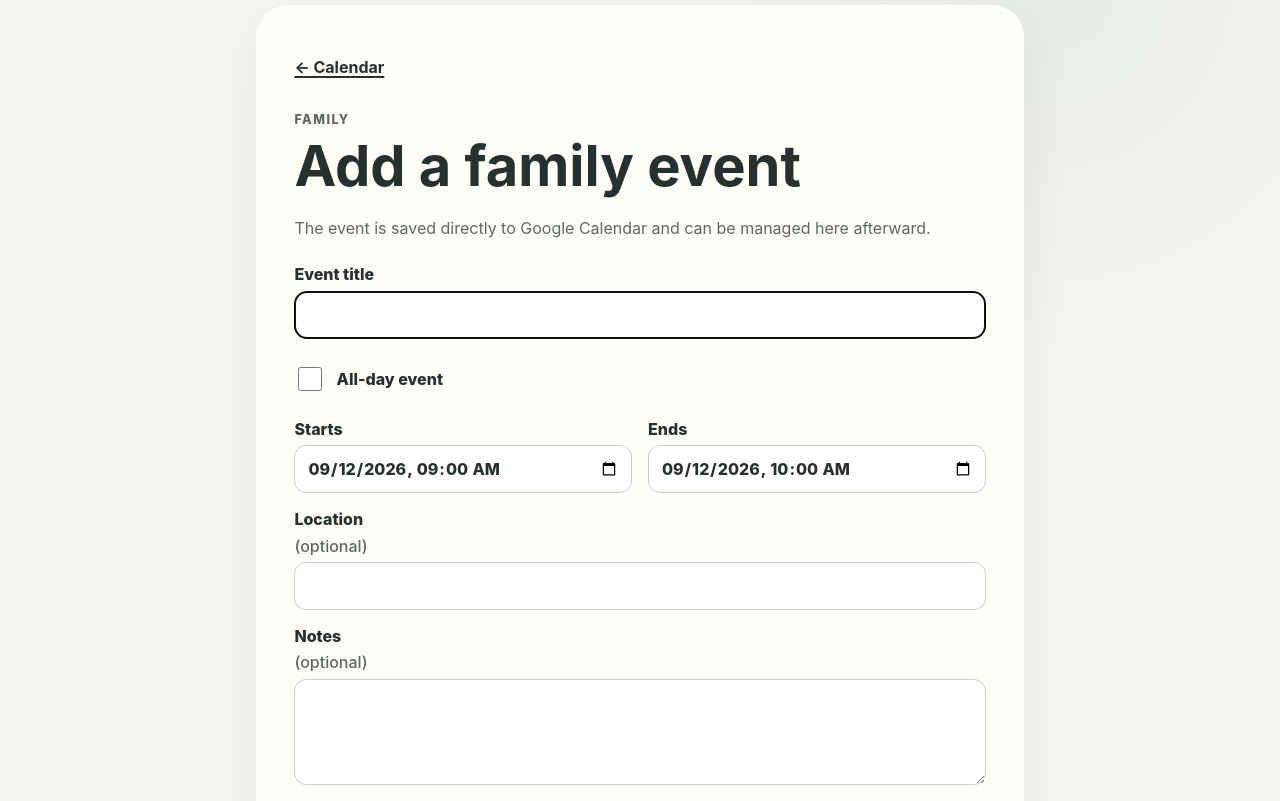
Test: calendar integration › creates an event with credentials, antiforgery, and an idempotency key
The width and height of the screenshot is (1280, 801).
Expected: the field labelled "Starts" holds "2026-09-12T09:00", [294,445,632,493]
Type "Dentist appointment" into the field labelled "Event title" at (640, 315), box [294,291,986,339]
(page scrolled)
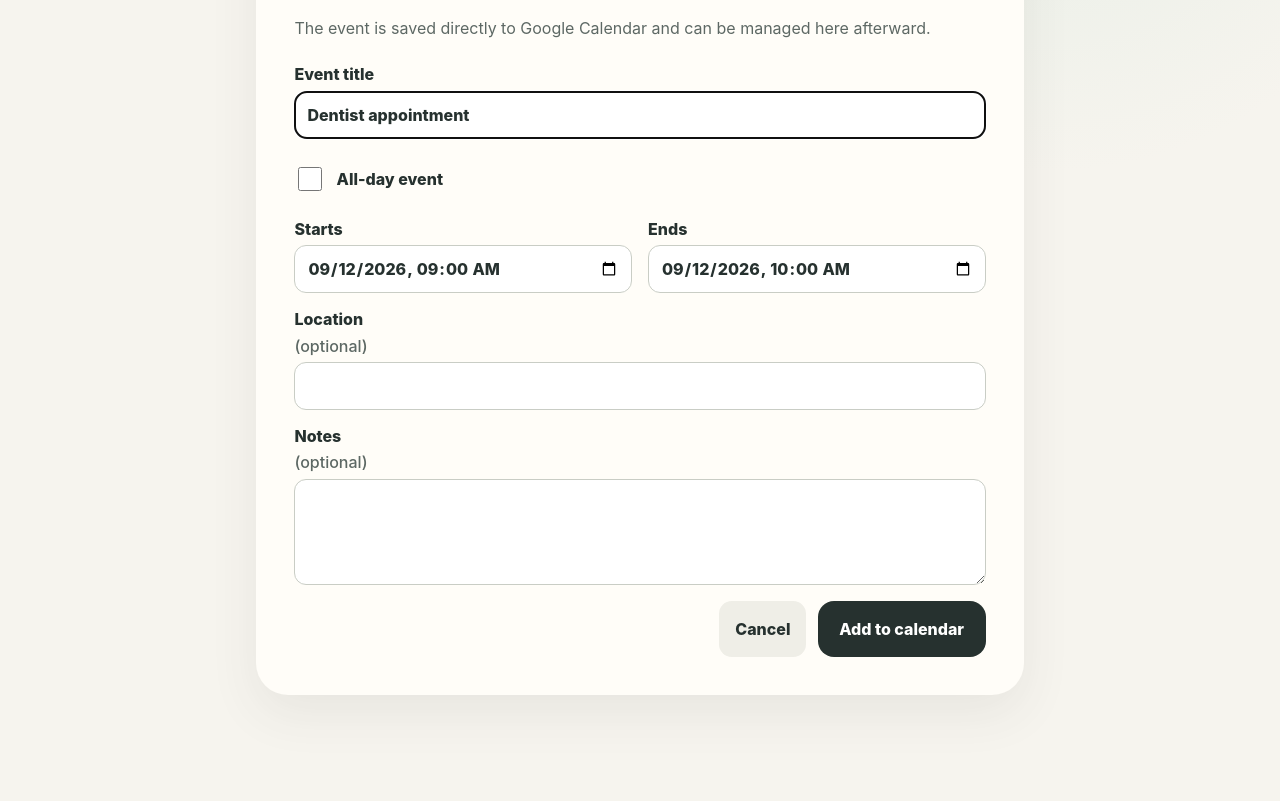
Click the button "Add to calendar" at (902, 629), box [818,601,986,657]
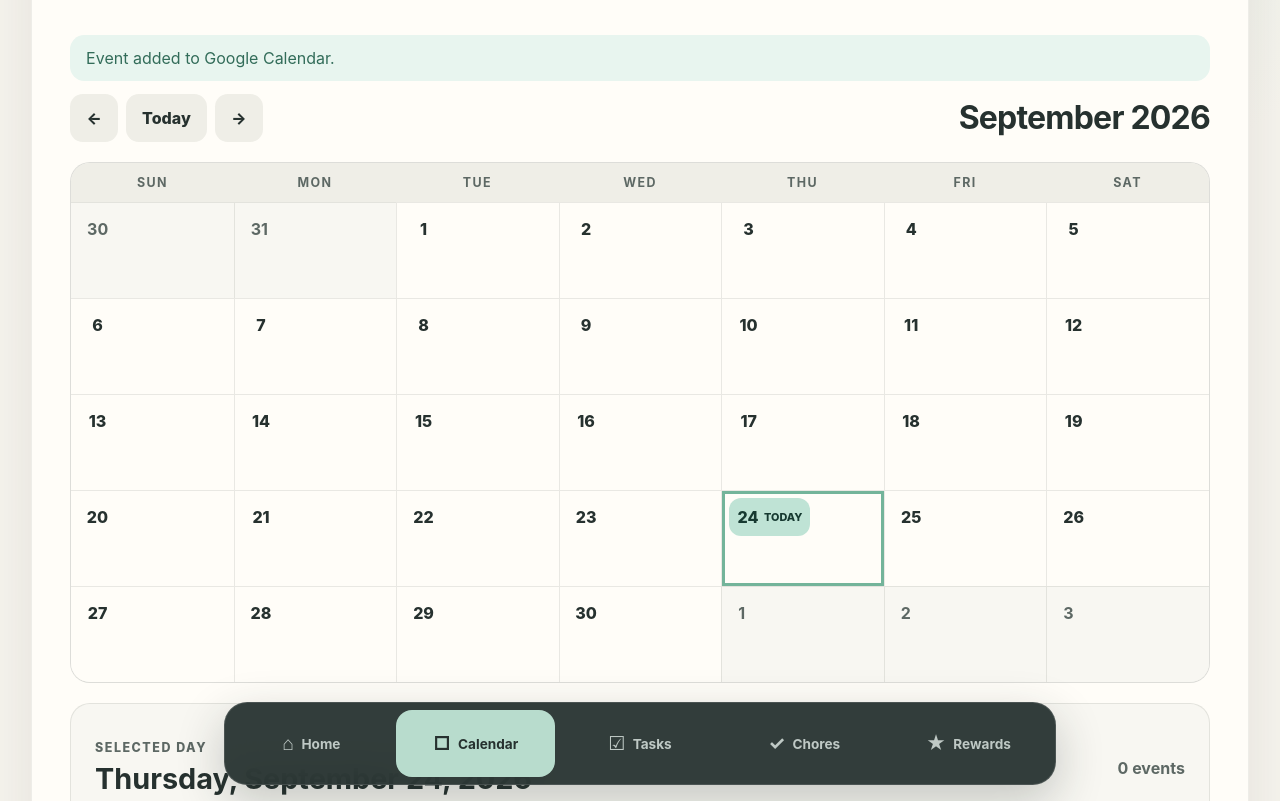
Now the text "Event added to Google Calendar." is shown, box [70,35,1210,81]
